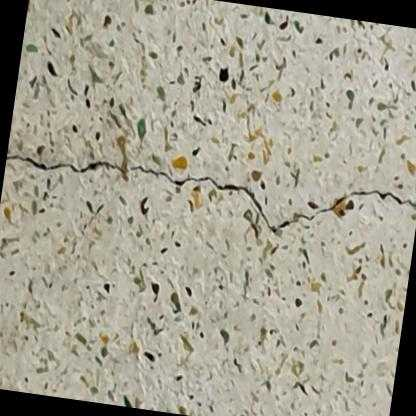crack: (5, 150, 416, 235)
